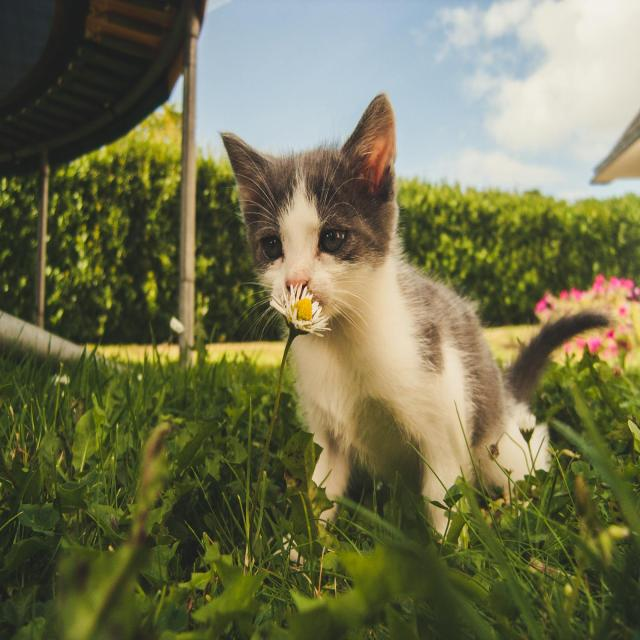Cat: (218, 91, 617, 555)
